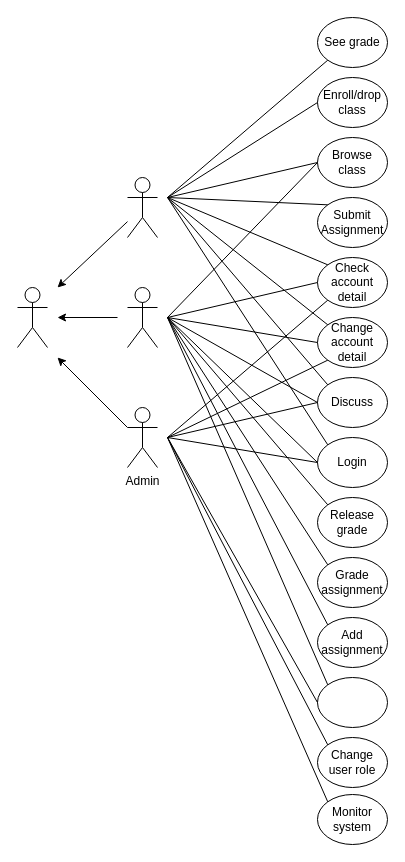
Some shapes in this 405 by 862 pixel diagram are drawn without their labels. Each missing label, with the centre of its shape:
"Modify class" goes at point 352,702.
"Student" goes at point 142,207.
"Teacher" goes at point 142,317.
"User" goes at point 32,317.
